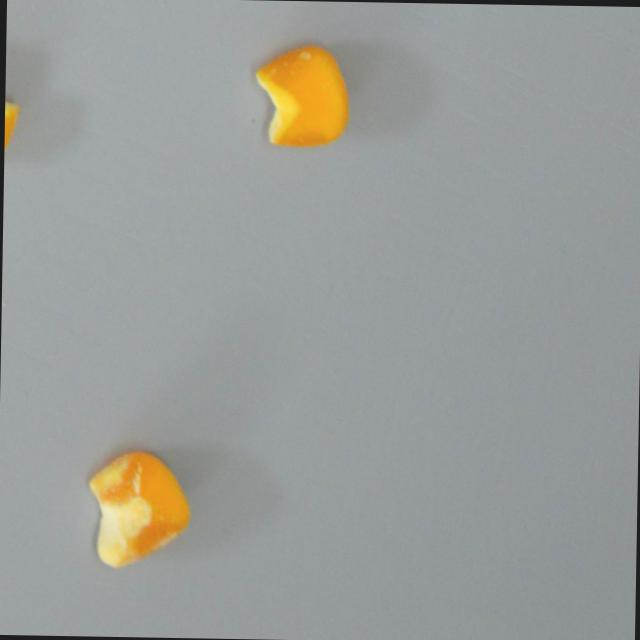no_canjicado: (250, 42, 350, 146)
pelicula: (85, 448, 191, 569), (3, 44, 19, 171)
